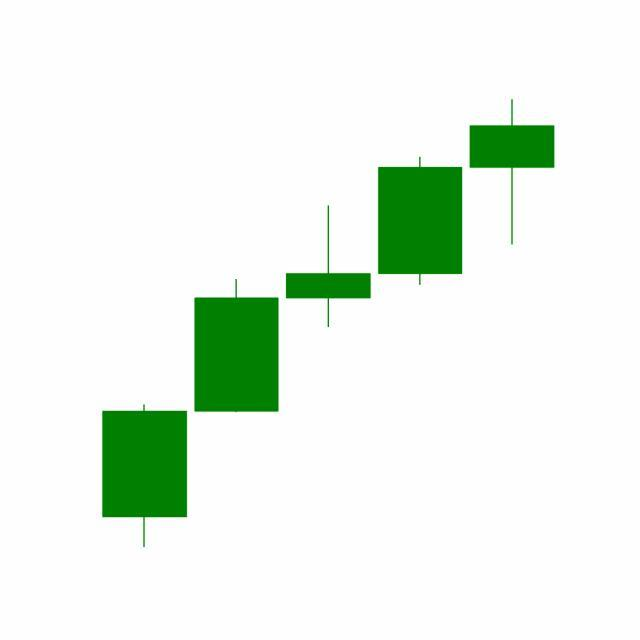Marubozu: (374, 156, 468, 288)
